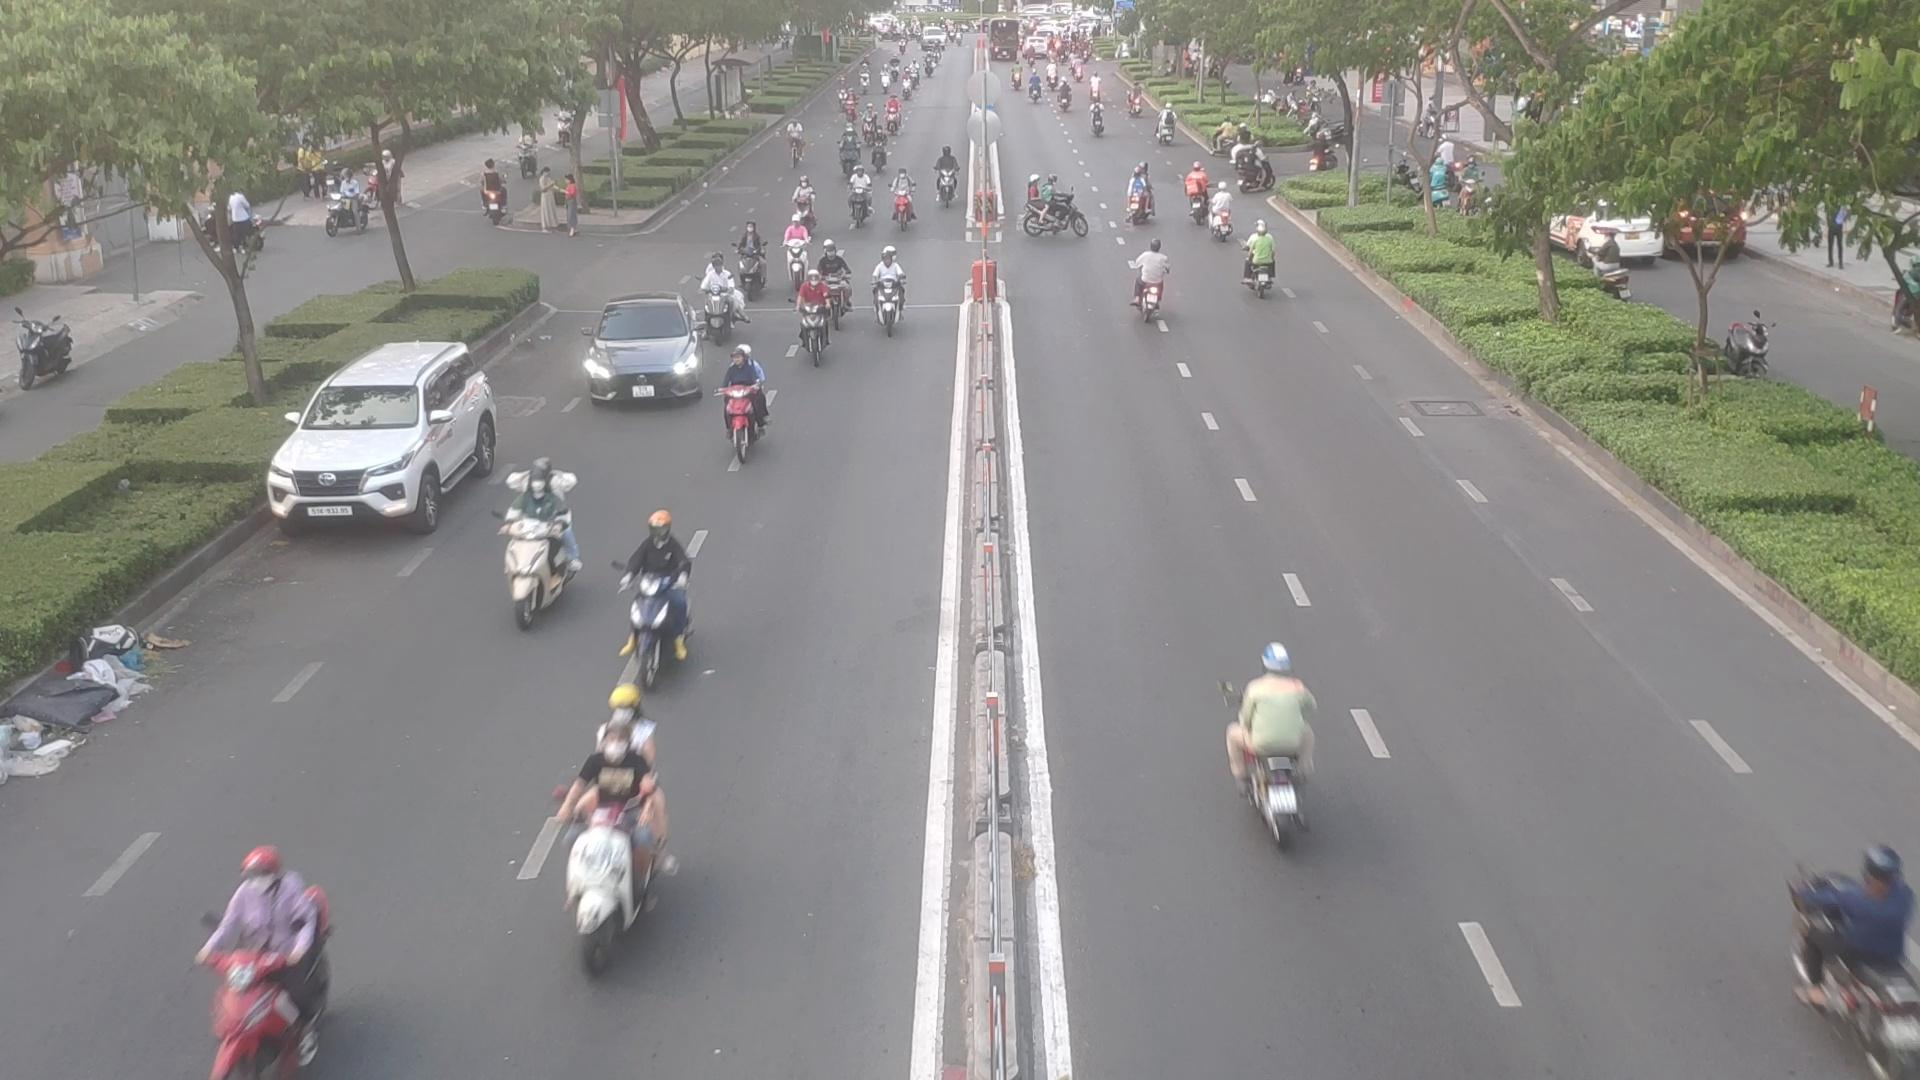car: (273, 344, 514, 537), (578, 298, 708, 407)
motorbike: (175, 843, 334, 1077), (526, 731, 676, 964), (1793, 836, 1920, 1076), (1218, 658, 1332, 847), (498, 463, 589, 628), (615, 514, 704, 676), (707, 342, 775, 456), (1021, 179, 1092, 247), (694, 264, 750, 343), (1126, 247, 1178, 327), (862, 255, 910, 338), (793, 276, 833, 372), (803, 247, 855, 319), (1237, 225, 1287, 295), (729, 224, 769, 291), (885, 175, 918, 235), (1127, 170, 1162, 224), (786, 177, 818, 235), (1207, 179, 1238, 236), (785, 220, 818, 273), (848, 167, 874, 225), (1185, 161, 1209, 223), (934, 144, 957, 203), (835, 123, 858, 175), (874, 123, 887, 178)
